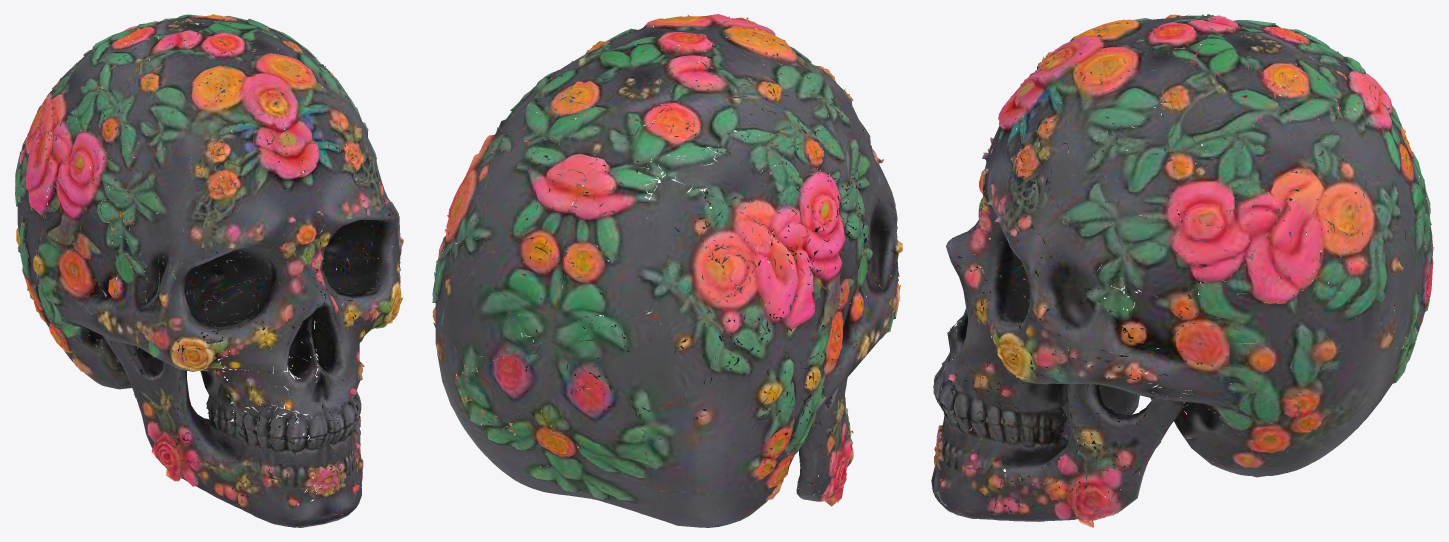
Rendered from mexican_skull_with_flower_pattern.glb.
3 views of the same model, side by side, from view 1: azimuth 30°, elevation 25°; view 2: azimuth 150°, elevation 25°; view 3: azimuth 270°, elevation 25° (orthographic). The views are drawn at different scales.
Parts seen in each view (by area): view 1: Object_4, Object_5, Object_6; view 2: Object_4, Object_5, Object_6; view 3: Object_5, Object_4, Object_6.
Boxes of the visible parts, x1=… form: Object_4: x1=15, y1=14, x2=400, y2=526; Object_5: x1=15, y1=14, x2=401, y2=527; Object_6: x1=15, y1=15, x2=403, y2=527; Object_4: x1=434, y1=21, x2=902, y2=526; Object_5: x1=432, y1=14, x2=902, y2=527; Object_6: x1=432, y1=16, x2=900, y2=520; Object_5: x1=931, y1=15, x2=1431, y2=521; Object_4: x1=931, y1=14, x2=1433, y2=521; Object_6: x1=933, y1=14, x2=1433, y2=527.
Bounding box in the file's own units: 1.51 × 2 × 1.94.
1 material, 1 textured.
